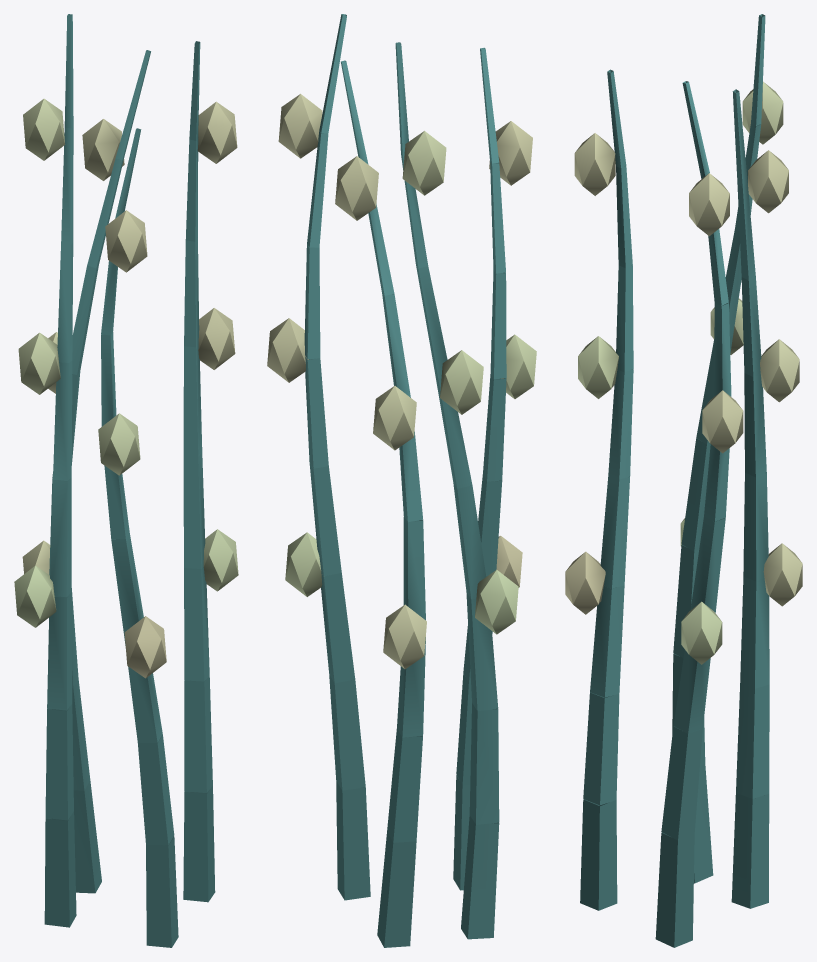
File: lantern_kelp.glb
3 views of the same model, side by side, from view 1: azimuth 30°, elevation 25°; view 2: azimuth 150°, elevation 25°; view 3: azimuth 270°, elevation 25° (orthographic). The views are drawn at different scales.
Visible parts, largest first — view 1: lantern_kelp; view 2: lantern_kelp; view 3: lantern_kelp.
Boxes of the visible parts, left/top/right/bottom form: lantern_kelp: left=14, top=14, right=238, bottom=947; lantern_kelp: left=267, top=14, right=536, bottom=947; lantern_kelp: left=565, top=14, right=802, bottom=947.
Size of the model in its own units: 1.21 by 4.46 by 1.09.
